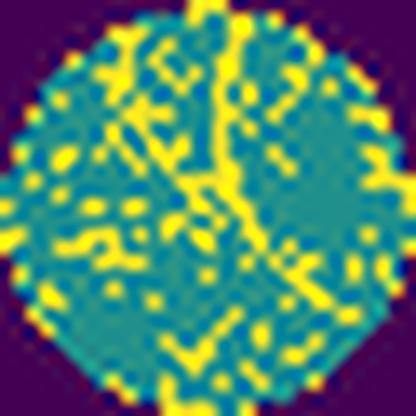Scratch: (123, 16, 352, 325)
